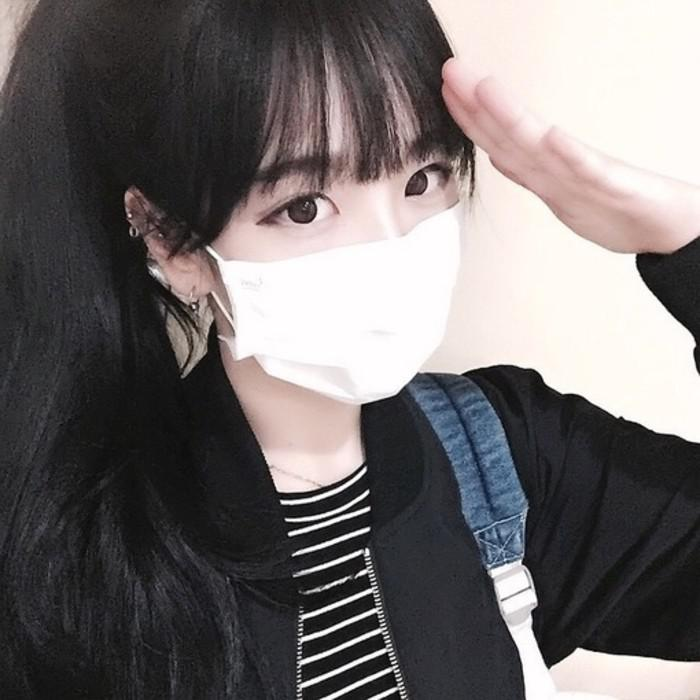OK: (202, 115, 488, 401)
